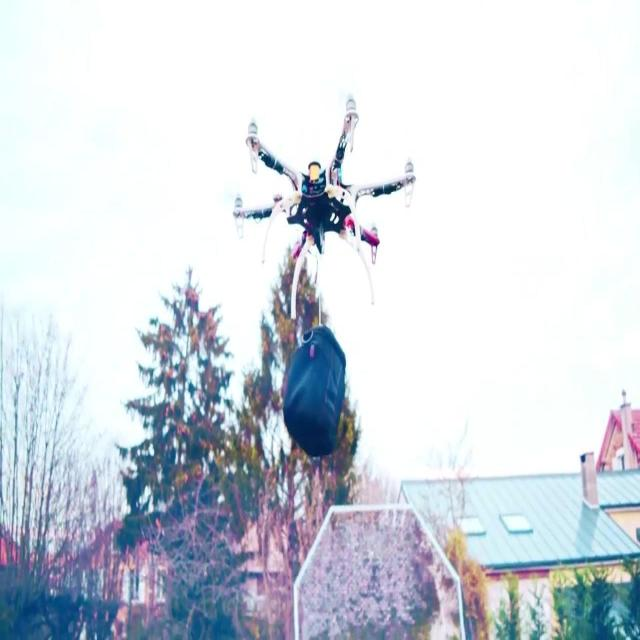drone: (233, 92, 417, 325)
